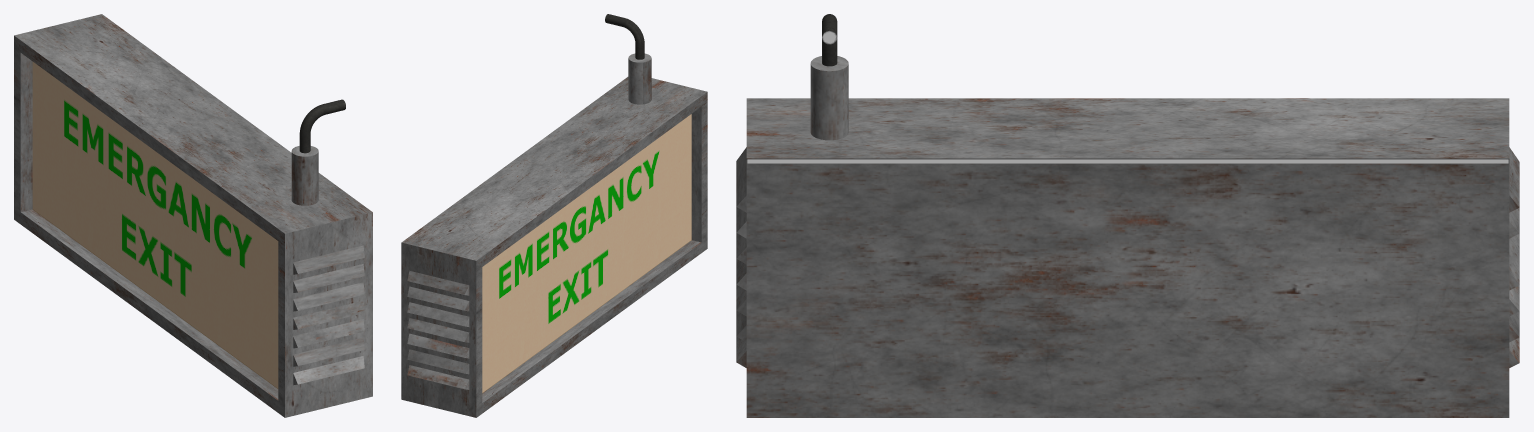
The model's file is FireExitSign.fbx.
3 renders of one model, left to right at view 1: azimuth 30°, elevation 25°; view 2: azimuth 150°, elevation 25°; view 3: azimuth 270°, elevation 25°, orthographic. The views are drawn at different scales.
Visible parts, largest first — view 1: FireExitSign; view 2: FireExitSign; view 3: FireExitSign.
Part boxes in pixels (bbox=[...]): FireExitSign: bbox=[14, 14, 372, 417]; FireExitSign: bbox=[401, 14, 707, 417]; FireExitSign: bbox=[736, 14, 1519, 417].
Size of the model in its own units: 20.43 by 61.02 by 112.
1 material, 1 textured.
